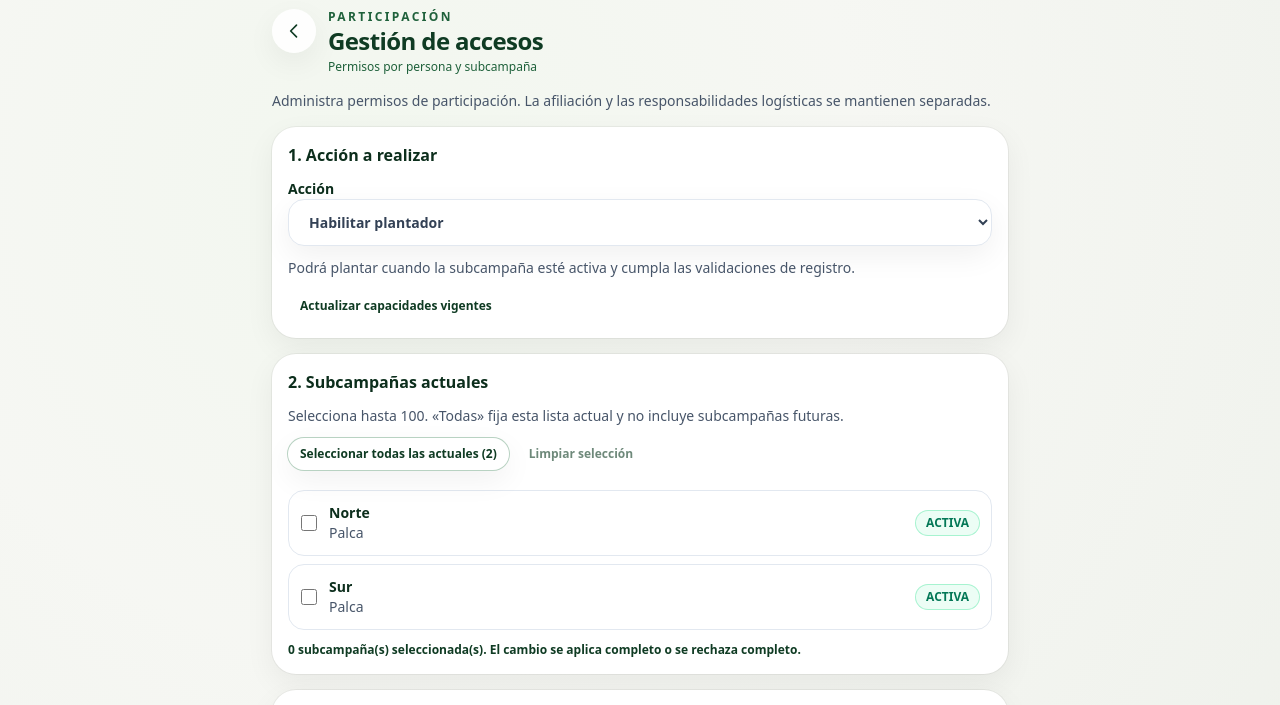
Test: Gestión de accesos con revisión explícita › permite localizar homónimos por correo exacto sin mostrar el correo en resultados y pagina
Click the button "Seleccionar todas las actuales (2)" at (398, 454), box x1=288 y1=438 x2=509 y2=470
(page scrolled)
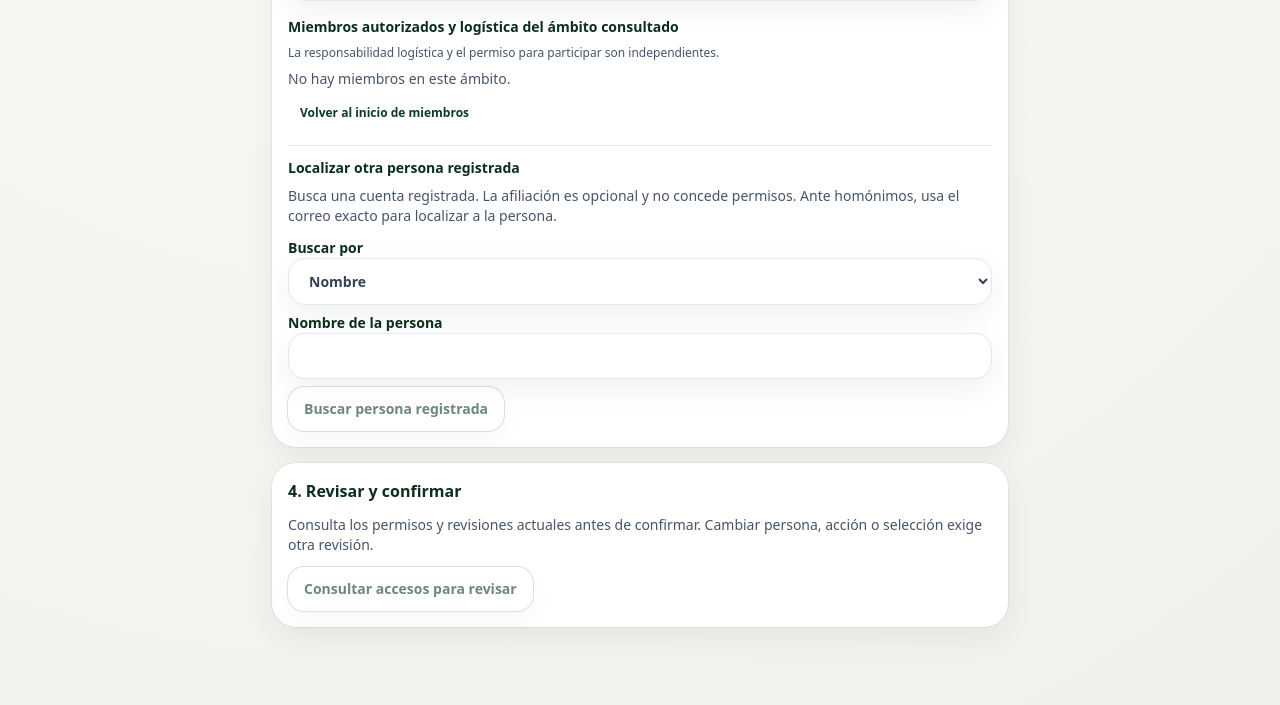
Select "Correo exacto" in the dropdown labelled "Buscar por" at (640, 282), box x1=288 y1=258 x2=992 y2=305
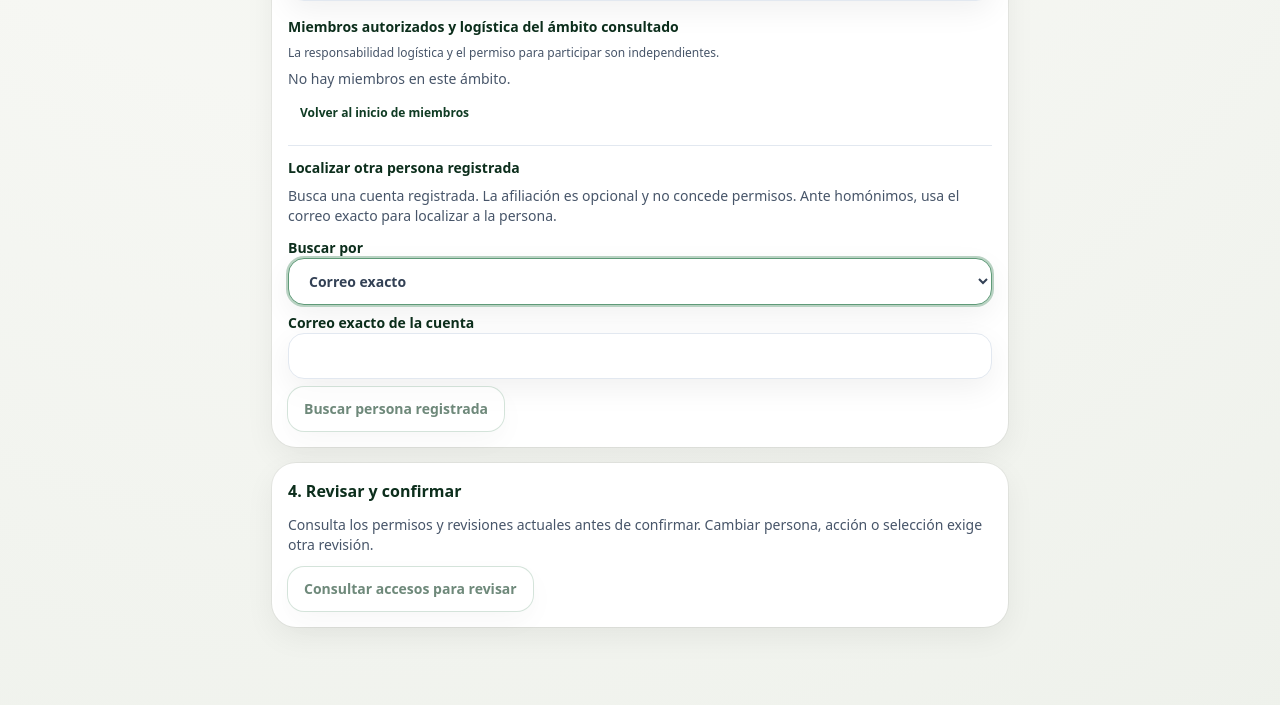
Type "ana@example.test" into the field labelled "Correo exacto de la cuenta" at (640, 356), box x1=288 y1=333 x2=992 y2=379
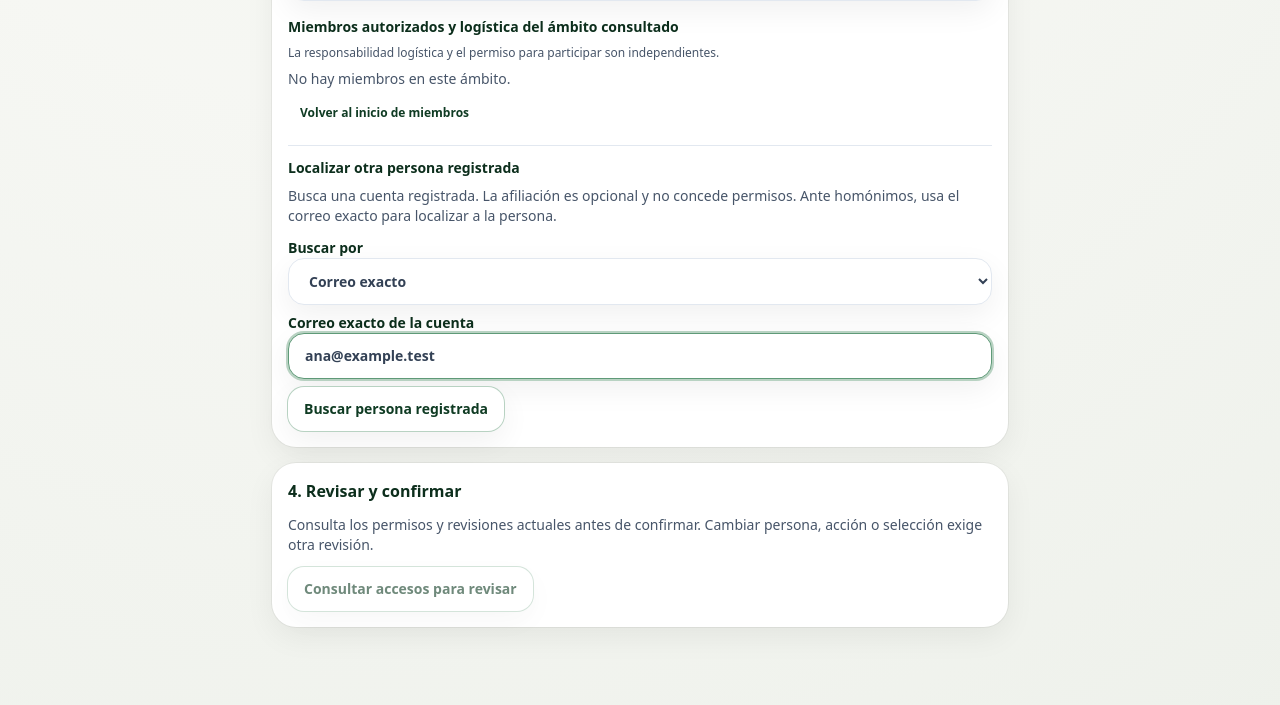
Click the button "Buscar persona registrada" at (396, 409), box x1=288 y1=387 x2=504 y2=431
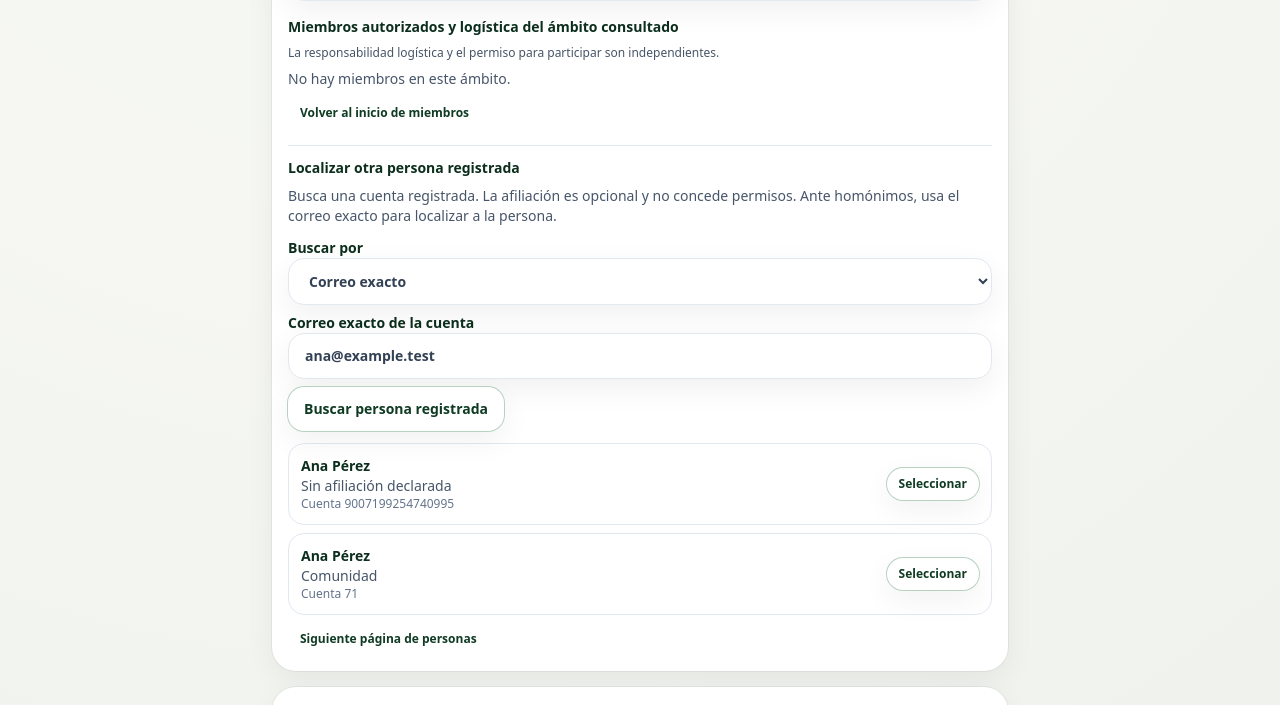
Check: the text "Ana Pérez" is shown 2 times, box x1=301 y1=456 x2=370 y2=475; x1=301 y1=546 x2=377 y2=566
Click the button "Siguiente página de personas" at (388, 639), box x1=288 y1=623 x2=489 y2=655
(page scrolled)
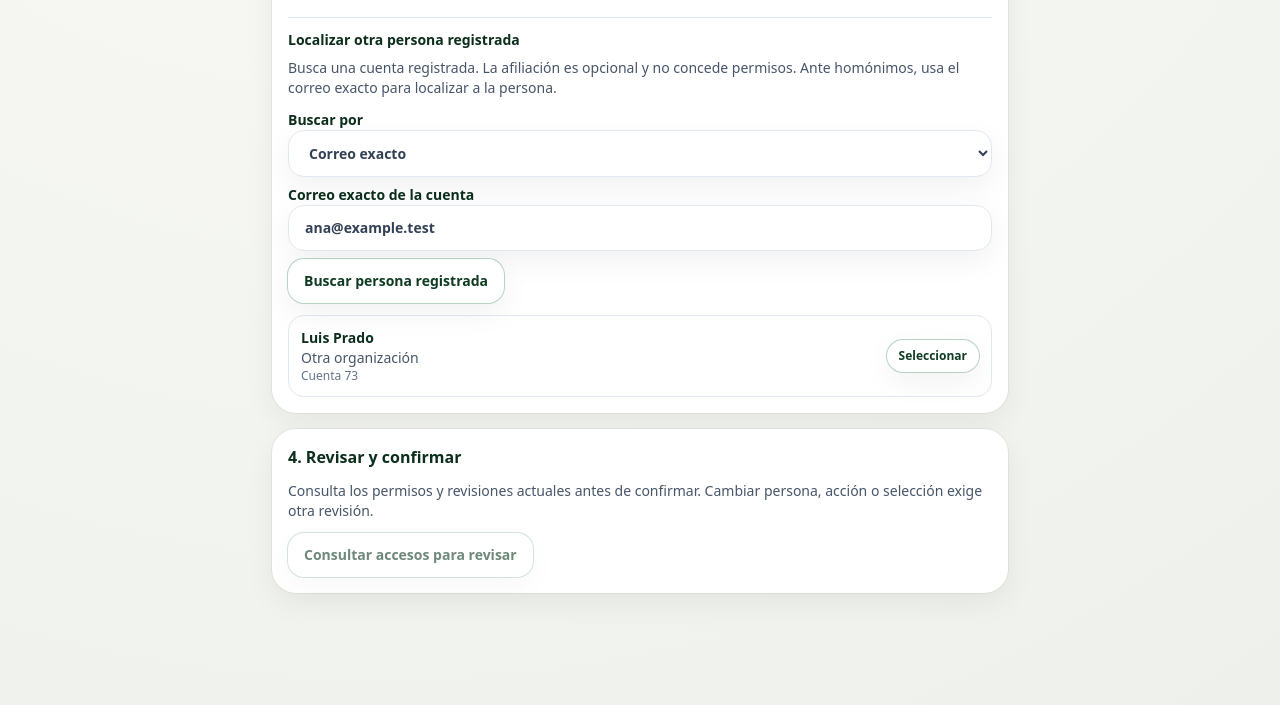
Check: the text "Luis Prado" is shown, box x1=301 y1=328 x2=374 y2=347
